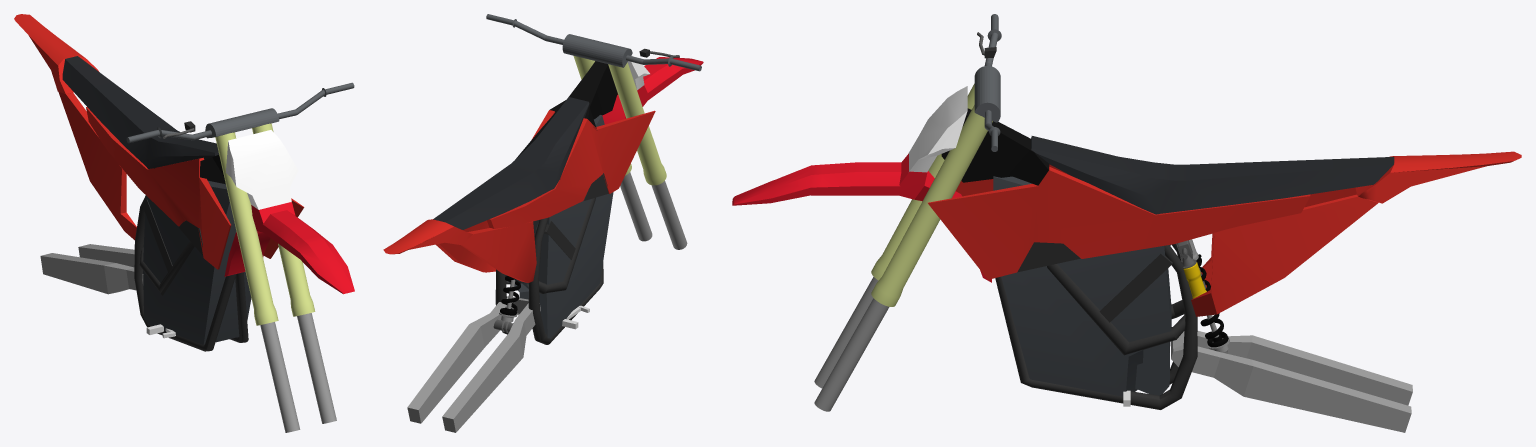
File: stark.glb
3 views of the same model, side by side, from view 1: azimuth 30°, elevation 25°; view 2: azimuth 150°, elevation 25°; view 3: azimuth 270°, elevation 25° (orthographic). The views are drawn at different scales.
Visible parts, largest first — view 1: Cube.002, Plastics, Battery, seat, frame, Swing arm, Cylinder.002; view 2: Plastics, Swing arm, seat, Cube.002, Battery, frame, Cylinder.002, Bike; view 3: Plastics, Cube.002, Battery, seat, frame, Swing arm, Cylinder.002, Bike.
Part boxes in pixels (bbox=[...]): Cube.002: bbox=[163, 121, 354, 432]; Plastics: bbox=[14, 14, 304, 269]; Battery: bbox=[143, 180, 251, 344]; seat: bbox=[62, 56, 218, 168]; frame: bbox=[134, 155, 248, 351]; Swing arm: bbox=[40, 244, 143, 294]; Cylinder.002: bbox=[126, 82, 354, 143]; Plastics: bbox=[383, 110, 655, 282]; Swing arm: bbox=[407, 296, 540, 432]; seat: bbox=[433, 97, 589, 229]; Cube.002: bbox=[573, 48, 703, 249]; Battery: bbox=[506, 115, 613, 338]; frame: bbox=[495, 61, 617, 344]; Cylinder.002: bbox=[486, 14, 701, 71]; Bike: bbox=[493, 276, 520, 332]; Plastics: bbox=[928, 151, 1521, 316]; Cube.002: bbox=[732, 32, 996, 411]; Battery: bbox=[993, 176, 1171, 396]; seat: bbox=[1031, 136, 1394, 214]; frame: bbox=[941, 108, 1197, 409]; Swing arm: bbox=[1171, 331, 1412, 432]; Cylinder.002: bbox=[974, 14, 1001, 151]; Bike: bbox=[1176, 239, 1229, 353].
Size of the model in its own units: 0.7921 by 0.9626 by 2.01.
